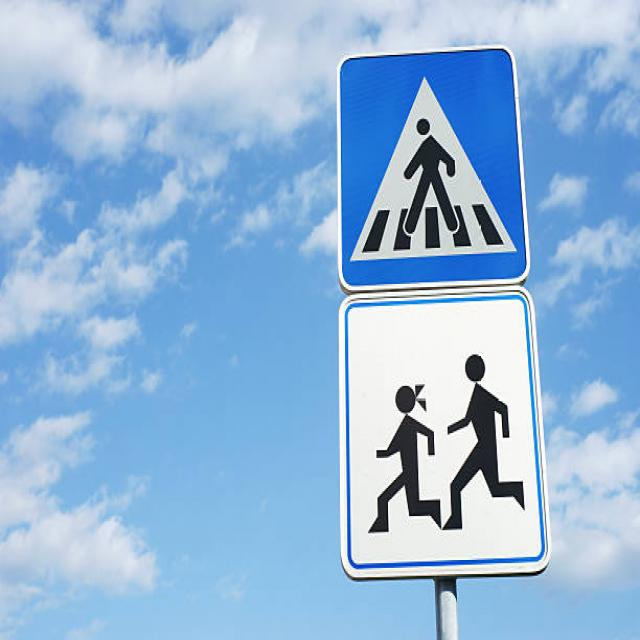crosswalk: (331, 39, 534, 304)
